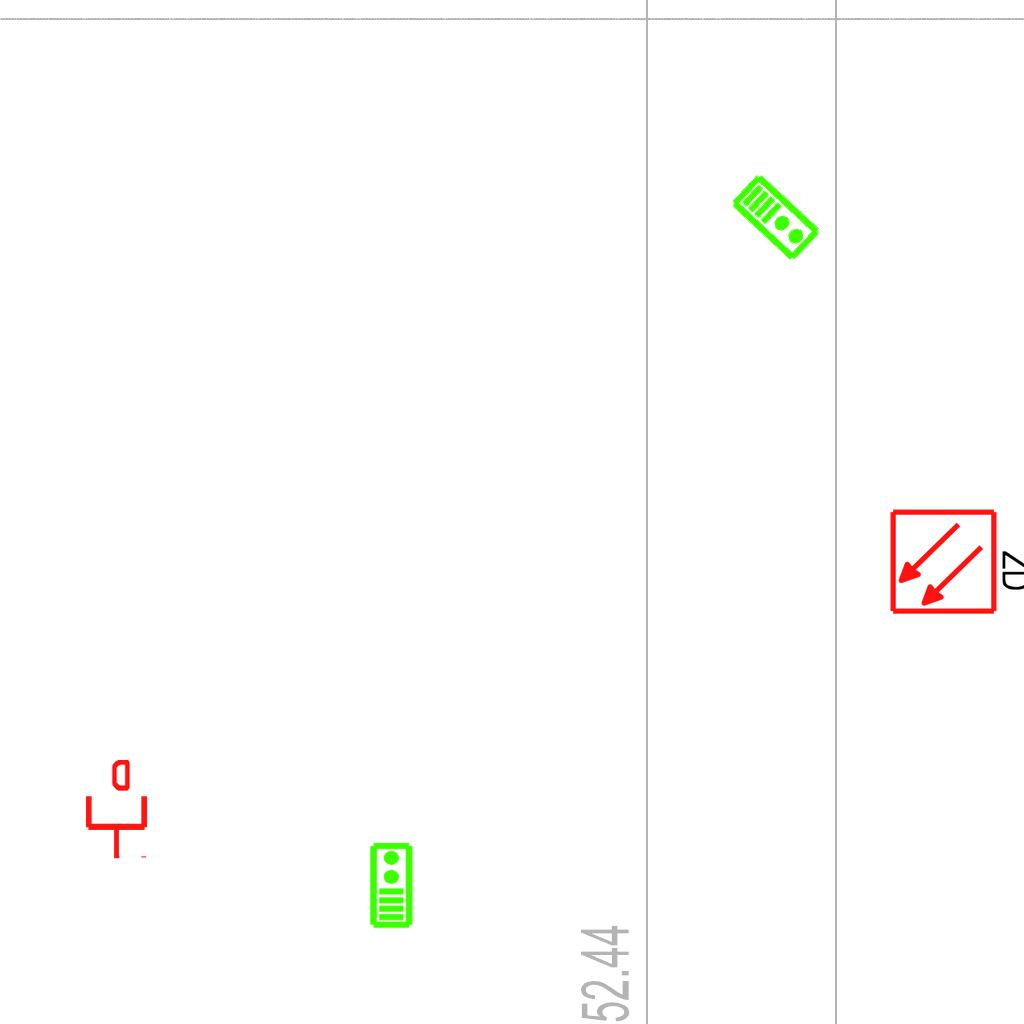Datenanschluss_einfach: (82, 760, 151, 860)
Gegensprechanlage_mit_Video: (728, 169, 825, 265), (367, 841, 414, 929)
ZD_Melder_in_Zwischendecke_mit_Revisionsoeffnung_mind_40_x_40_cm: (888, 503, 1024, 617)
